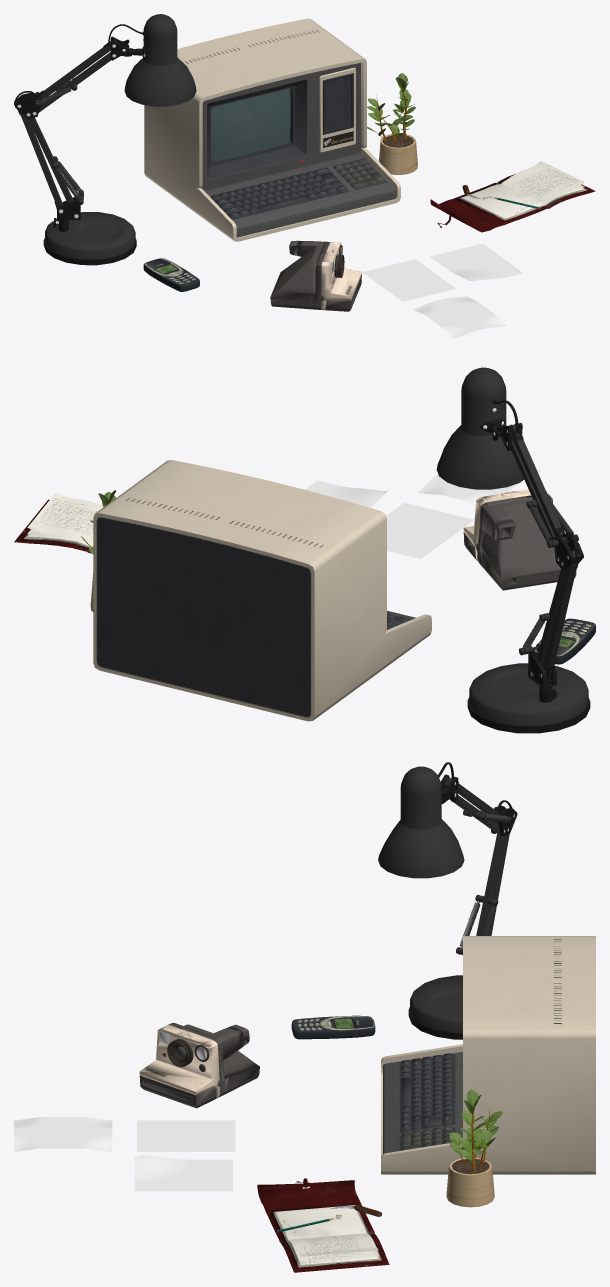
3 views of the same model, one above another, from view 1: azimuth 30°, elevation 25°; view 2: azimuth 150°, elevation 25°; view 3: azimuth 270°, elevation 25° (orthographic). The views are drawn at different scales.
Visible parts, largest first — view 1: Comp_Screen.002, lamp.001, journal, camera, Comp_Screen.000, plant, photo.002, photo, photo.001, phone; view 2: Comp_Screen.002, lamp.001, camera, journal, photo, phone, photo.002, photo.001; view 3: Comp_Screen.002, lamp.001, journal, camera, Comp_Screen.000, plant, photo.001, photo.002, photo, phone.
Part boxes in pixels (bbox=[...]): Comp_Screen.002: bbox=[144, 18, 400, 241]; lamp.001: bbox=[14, 14, 196, 265]; journal: bbox=[430, 161, 595, 232]; camera: bbox=[270, 240, 361, 311]; Comp_Screen.000: bbox=[210, 158, 385, 219]; plant: bbox=[367, 73, 417, 174]; photo.002: bbox=[413, 296, 506, 338]; photo: bbox=[362, 259, 455, 301]; photo.001: bbox=[430, 243, 523, 281]; phone: bbox=[143, 258, 199, 291]; Comp_Screen.002: bbox=[93, 460, 431, 721]; lamp.001: bbox=[436, 367, 590, 733]; camera: bbox=[463, 489, 576, 590]; journal: bbox=[14, 493, 103, 553]; photo: bbox=[386, 502, 473, 558]; phone: bbox=[533, 618, 595, 664]; photo.002: bbox=[418, 469, 541, 504]; photo.001: bbox=[305, 480, 387, 507]; Comp_Screen.002: bbox=[381, 936, 595, 1174]; lamp.001: bbox=[378, 762, 517, 1039]; journal: bbox=[257, 1178, 389, 1272]; camera: bbox=[139, 1023, 259, 1108]; Comp_Screen.000: bbox=[401, 1053, 452, 1150]; plant: bbox=[446, 1089, 502, 1207]; photo.001: bbox=[134, 1153, 232, 1191]; photo.002: bbox=[14, 1117, 112, 1151]; photo: bbox=[137, 1120, 235, 1151]; phone: bbox=[291, 1015, 375, 1039].
Size of what is drawn, in the model's own units: 30.9 by 13.84 by 26.11.
Materials: 18 (10 with a texture image).
